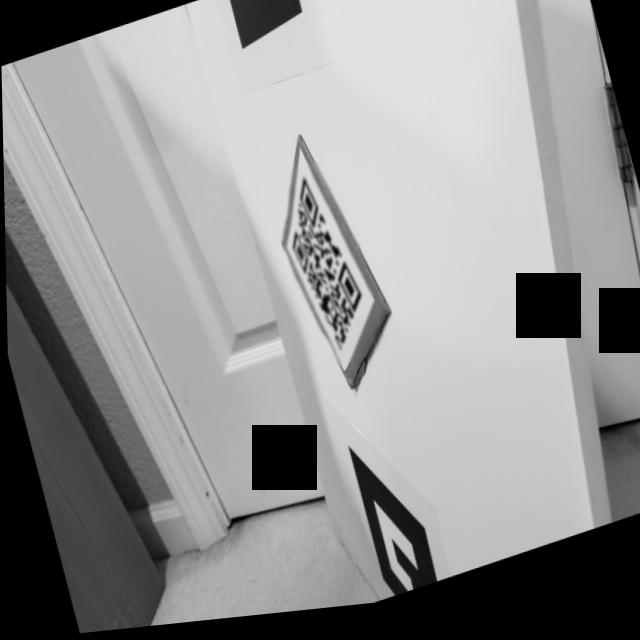QR_CODE: (263, 158, 385, 383)
